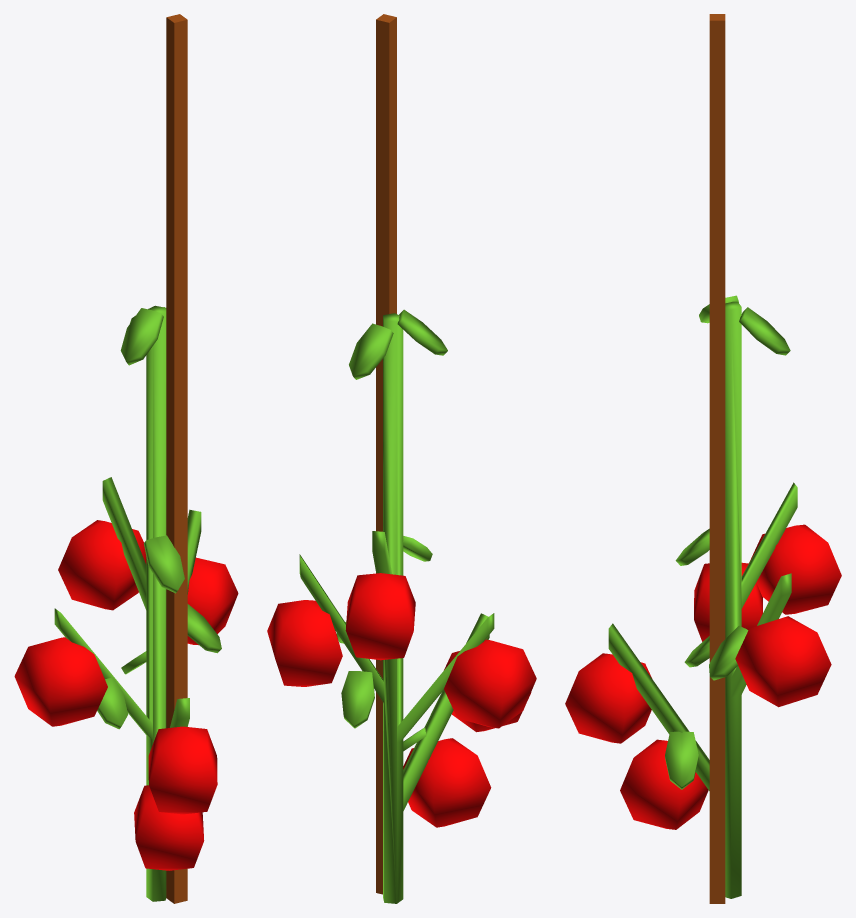
The model's file is tomato.obj.
3 views of the same model, side by side, from view 1: azimuth 30°, elevation 25°; view 2: azimuth 150°, elevation 25°; view 3: azimuth 270°, elevation 25° (orthographic).
Visible parts, largest first — view 1: cube2, cylinder5, sphere6, sphere6_copy7, sphere6_copy10, sphere6_copy8, sphere6_copy9, cylinder12_copy16, cylinder12_copy14, cylinder12_copy13, cylinder12_copy15; view 2: cylinder5, cube2, sphere6, sphere6_copy10, sphere6_copy9, sphere6_copy8, cylinder12_copy14, cylinder12_copy17; view 3: cylinder5, cube2, sphere6_copy9, sphere6_copy7, sphere6_copy10, sphere6_copy8, sphere6, cylinder12, cylinder12_copy14, cylinder12_copy15, cylinder12_copy16.
Part boxes in pixels (x1=…): cube2: x1=166, y1=14, x2=187, y2=903; cylinder5: x1=54, y1=305, x2=201, y2=901; sphere6: x1=14, y1=637, x2=107, y2=726; sphere6_copy7: x1=148, y1=726, x2=217, y2=814; sphere6_copy10: x1=58, y1=520, x2=146, y2=610; sphere6_copy8: x1=134, y1=785, x2=204, y2=870; sphere6_copy9: x1=187, y1=557, x2=238, y2=645; cylinder12_copy16: x1=143, y1=535, x2=184, y2=593; cylinder12_copy14: x1=120, y1=307, x2=164, y2=365; cylinder12_copy13: x1=97, y1=677, x2=128, y2=729; cylinder12_copy15: x1=187, y1=604, x2=221, y2=653; cylinder5: x1=299, y1=313, x2=494, y2=903; cube2: x1=376, y1=14, x2=396, y2=894; sphere6: x1=444, y1=639, x2=536, y2=728; sphere6_copy10: x1=345, y1=573, x2=415, y2=660; sphere6_copy9: x1=267, y1=600, x2=342, y2=686; sphere6_copy8: x1=403, y1=738, x2=491, y2=827; cylinder12_copy14: x1=349, y1=309, x2=447, y2=379; cylinder12_copy17: x1=341, y1=671, x2=374, y2=728; cylinder5: x1=608, y1=301, x2=797, y2=898; cube2: x1=709, y1=14, x2=725, y2=903; sphere6_copy9: x1=735, y1=616, x2=831, y2=707; sphere6_copy7: x1=565, y1=653, x2=651, y2=743; sphere6_copy10: x1=749, y1=524, x2=841, y2=614; sphere6_copy8: x1=620, y1=739, x2=708, y2=829; sphere6: x1=694, y1=562, x2=762, y2=641; cylinder12: x1=665, y1=731, x2=698, y2=789; cylinder12_copy14: x1=699, y1=295, x2=790, y2=355; cylinder12_copy15: x1=709, y1=625, x2=748, y2=680; cylinder12_copy16: x1=675, y1=528, x2=709, y2=565.
Size of the model in its own units: 1.65 by 6 by 1.7.
